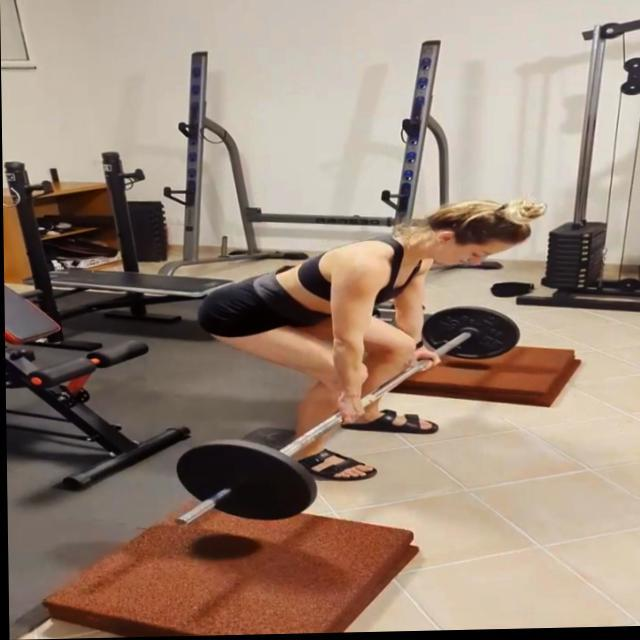barbell: (171, 437, 321, 534)
